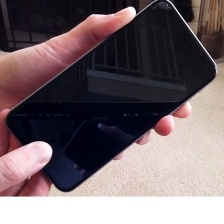phone: (2, 0, 219, 195)
